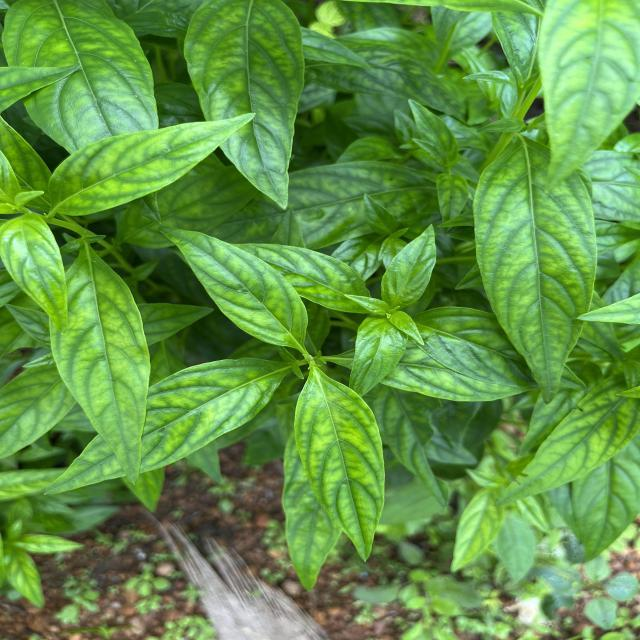Andrographis paniculata: (42, 354, 286, 498), (470, 136, 600, 402), (181, 1, 306, 218), (46, 249, 152, 487), (42, 110, 266, 220), (153, 218, 309, 350), (292, 366, 386, 564), (494, 382, 640, 508), (378, 221, 439, 309)
